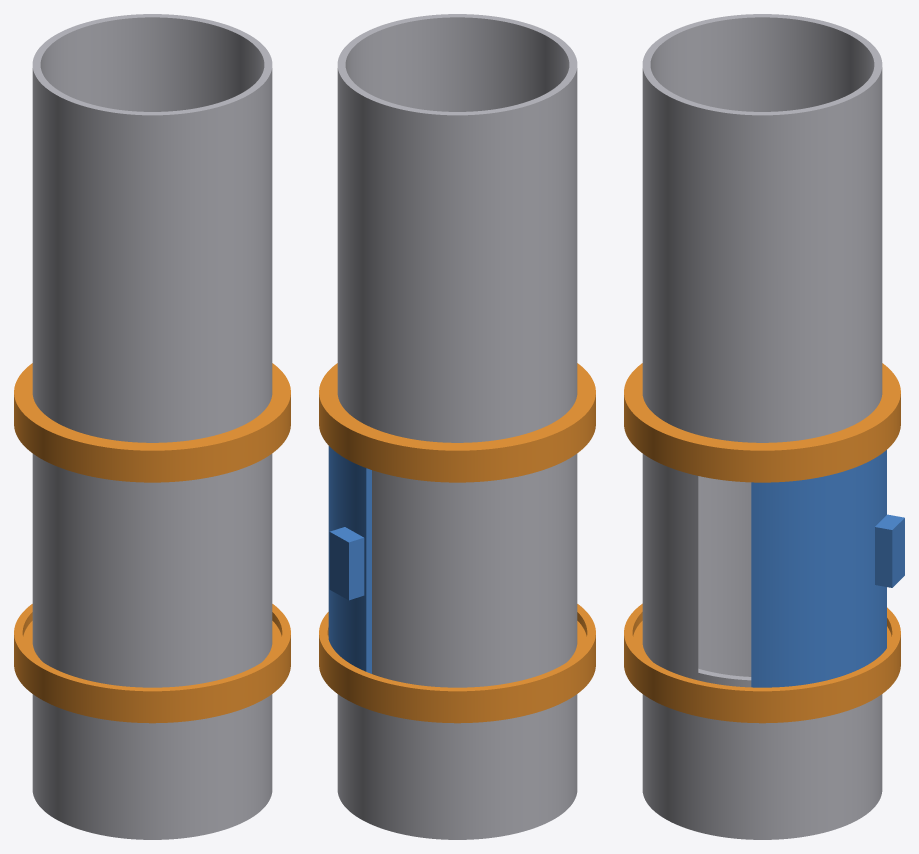
The picture shows the model from 3 angles, left to right: view 1: azimuth 30°, elevation 25°; view 2: azimuth 150°, elevation 25°; view 3: azimuth 270°, elevation 25°; orthographic projection.
Parts seen in each view (by area): view 1: cleanout_pipe, rail_upper, rail_lower; view 2: cleanout_pipe, rail_upper, rail_lower, sliding_door; view 3: cleanout_pipe, sliding_door, rail_upper, rail_lower.
Boxes of the visible parts, box(x1,y1,x2,y2) form: cleanout_pipe: box(32, 14, 272, 839); rail_upper: box(14, 363, 290, 482); rail_lower: box(14, 604, 290, 723); cleanout_pipe: box(337, 14, 577, 839); rail_upper: box(319, 363, 595, 482); rail_lower: box(319, 604, 595, 723); sliding_door: box(328, 446, 371, 673); cleanout_pipe: box(642, 14, 882, 839); sliding_door: box(751, 450, 904, 687); rail_upper: box(624, 363, 900, 482); rail_lower: box(624, 603, 900, 723).
Bounding box in the file's own units: 86.6 × 250 × 87.86.
